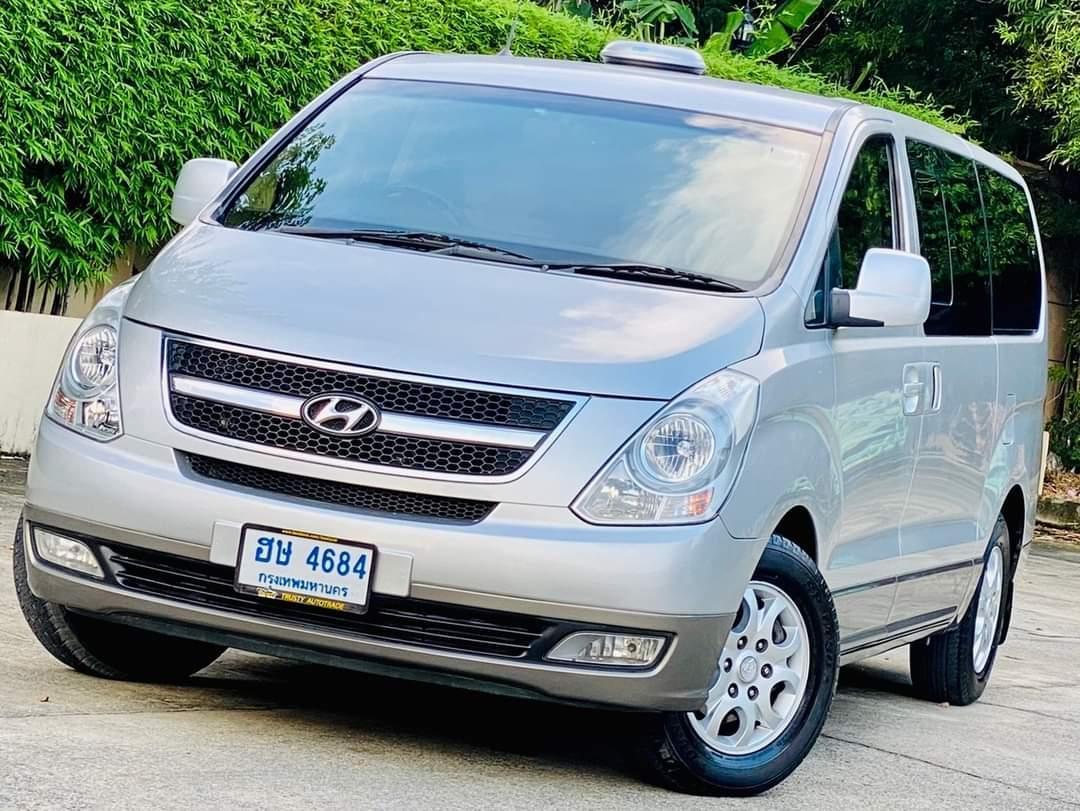license-plate: (227, 514, 382, 622)
